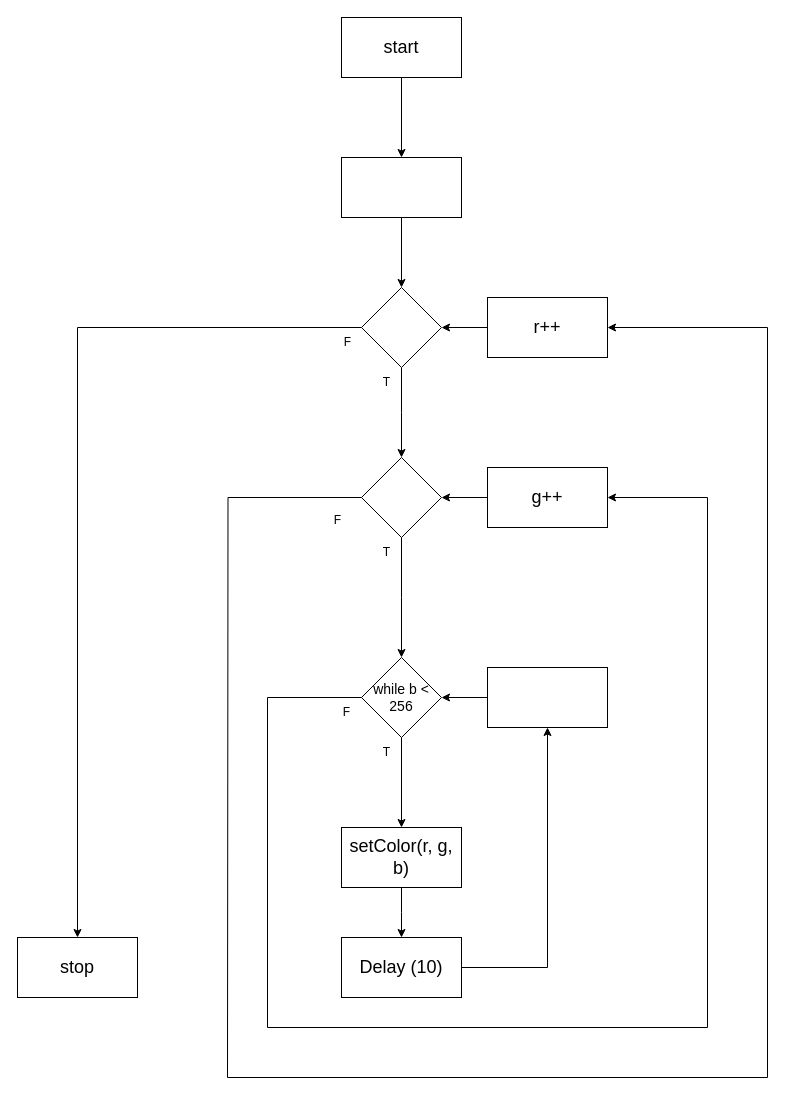
This 793x1096 diagram has some shape labels left out. Here are the shapes that lost their labels. From the top down, the centre of each, then its label:
the point at 401,187: setup()
the point at 401,327: while r < 256
the point at 401,497: while g < 256
the point at 547,697: b++
